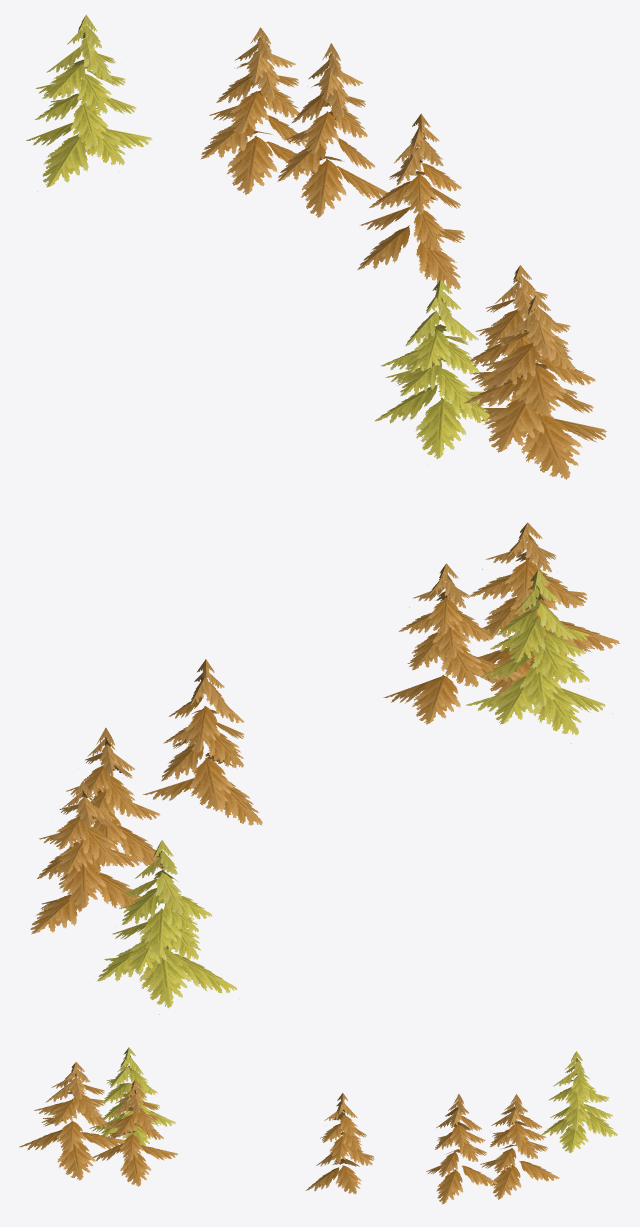
Rendered from area_07_26.fbx.
The picture shows the model from 3 angles, top to bottom: view 1: azimuth 30°, elevation 25°; view 2: azimuth 150°, elevation 25°; view 3: azimuth 270°, elevation 25°; orthographic projection. The views are drawn at different scales.
Parts seen in each view (by area): view 1: area_07_26; view 2: area_07_26; view 3: area_07_26.
Boxes of the visible parts, x1,y1,x2,y2 form: area_07_26: (26,14,606,479); area_07_26: (30,522,620,1014); area_07_26: (19,1047,617,1204).
Bounding box in the file's own units: 11 × 6.28 × 33.9.
